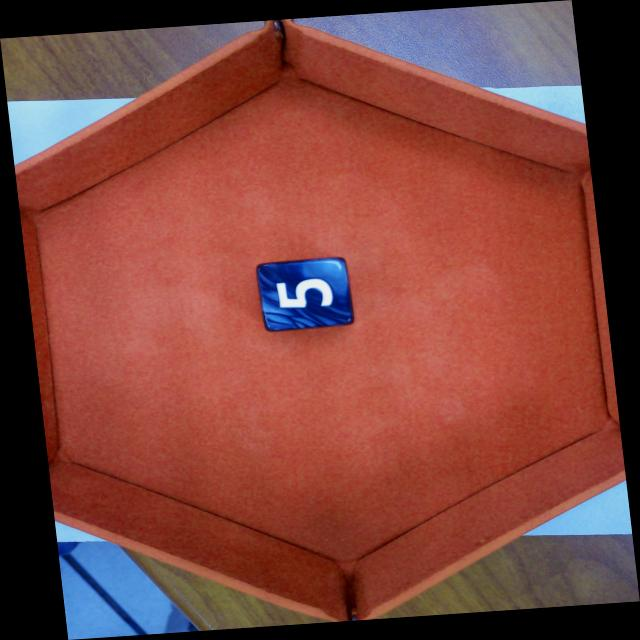dice: (260, 259, 355, 331)
